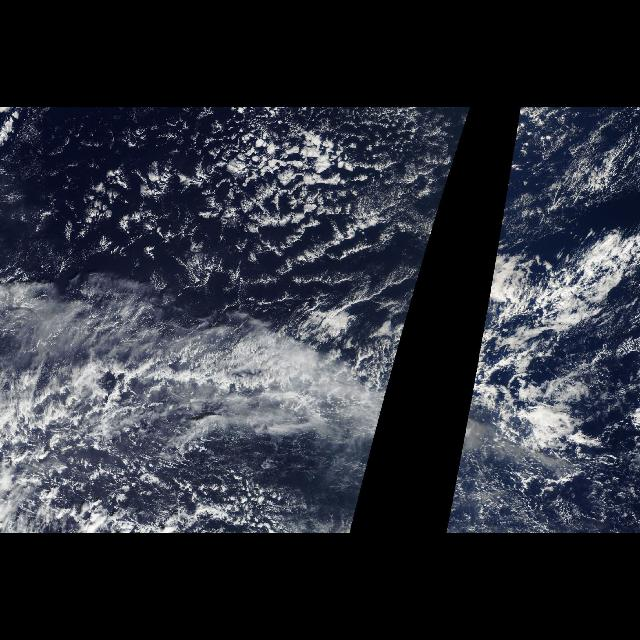Fish: (15, 305, 377, 447)
Gravel: (48, 109, 396, 284)
